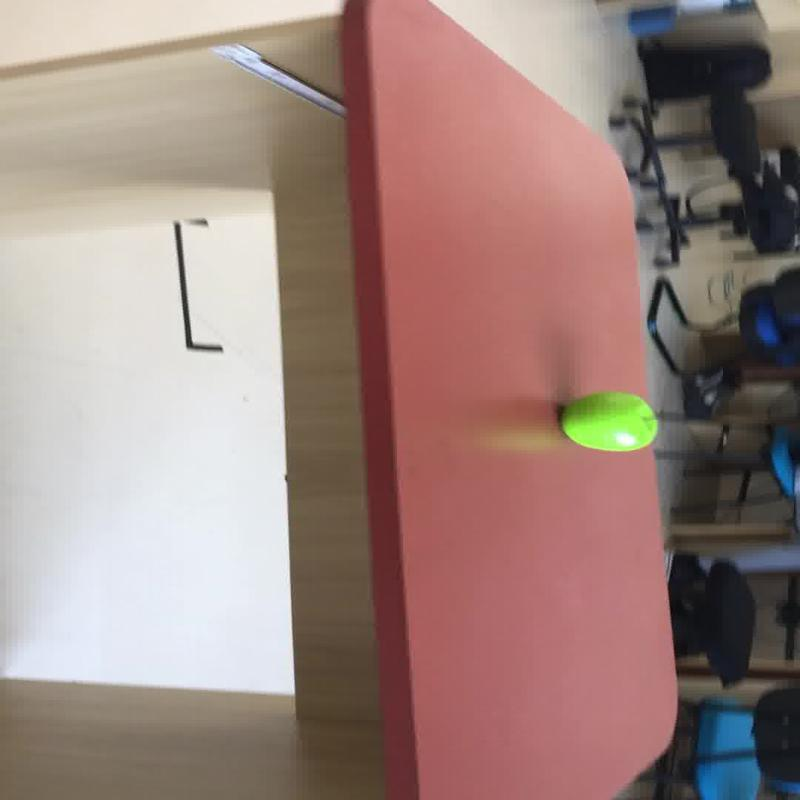apple: (558, 390, 658, 451)
